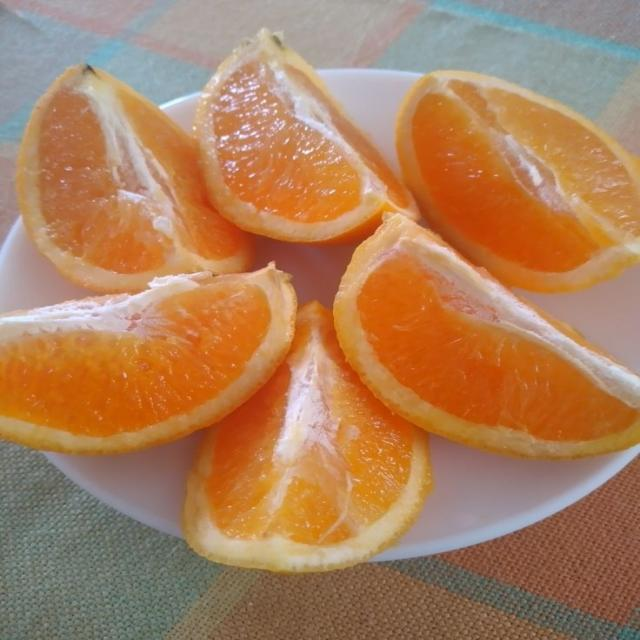orange: (334, 215, 639, 458), (183, 303, 431, 572), (0, 267, 296, 453), (397, 72, 639, 292), (17, 66, 252, 292), (195, 30, 416, 242)
